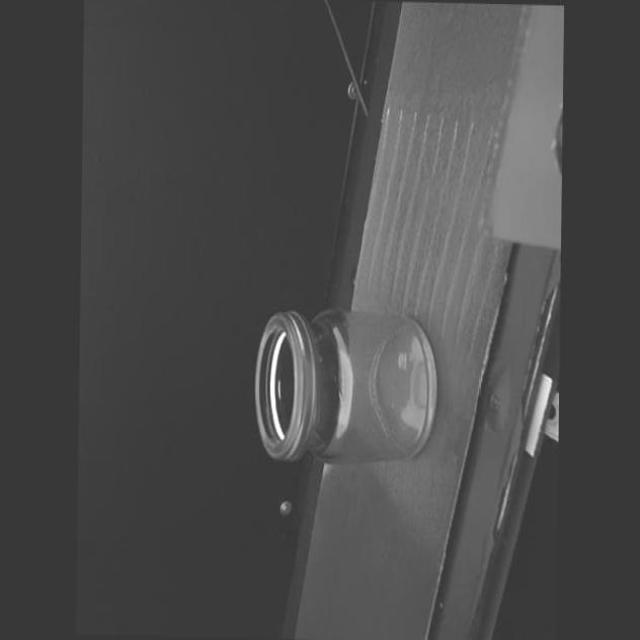defect: (336, 377, 343, 401)
glass: (253, 296, 440, 468)
